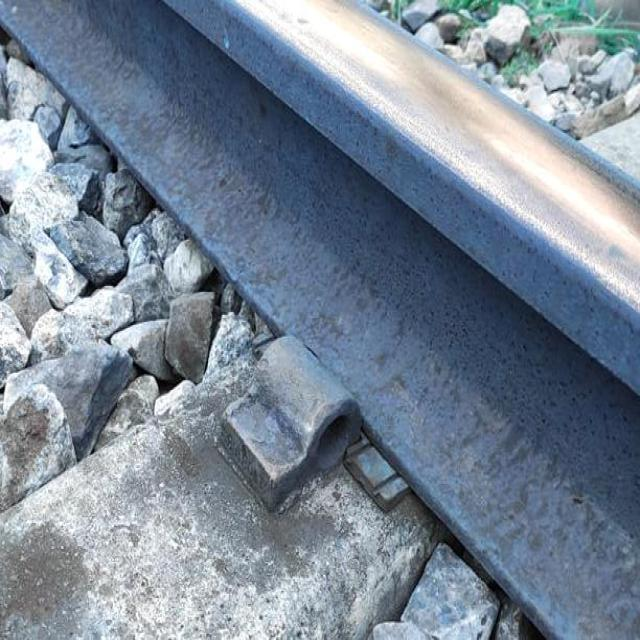Missing Fastener: (219, 337, 410, 514)
